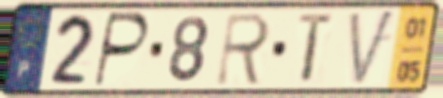2: (46, 11, 98, 90)
8: (167, 14, 211, 84)
P: (90, 10, 152, 90)
R: (213, 11, 274, 88)
T: (296, 10, 338, 87)
V: (346, 7, 398, 91)
